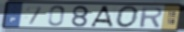0: (47, 5, 67, 27)
7: (25, 5, 43, 25)
8: (71, 5, 90, 28)
A: (89, 5, 115, 28)
O: (115, 5, 141, 29)
R: (139, 6, 164, 29)
